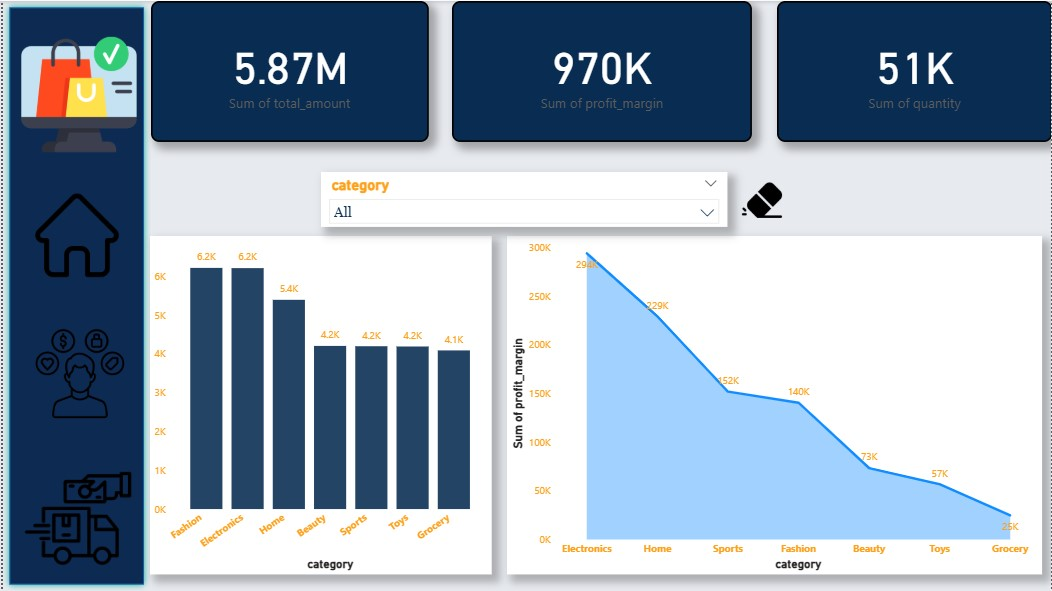

This screenshot's page, from the dashboard's own definition file:
{"tool":"powerbi","page":{"name":"Page 1","canvas":[1280,720],"ordinal":0},"visuals":[{"type":"shape","box":[0,0,180,720],"z":0},{"type":"image","box":[24,389.3,138.7,130.7],"z":1000},{"type":"image","box":[14.7,561.3,153.3,140],"z":2000},{"type":"image","box":[34.7,222.7,112,128],"z":3000},{"type":"image","box":[17.3,21.3,150.7,186.7],"z":4000},{"type":"card","fields":{"Values":["Sum(dwh fact_orders.total_amount)"]},"box":[180.3,0,338.6,172],"z":5000},{"type":"card","fields":{"Values":["Sum(dwh fact_orders.profit_margin)"]},"box":[547.8,0,366.1,172],"z":6000},{"type":"card","fields":{"Values":["Sum(dwh fact_orders.quantity)"]},"box":[944.2,0,335.8,172],"z":7000},{"type":"clusteredColumnChart","fields":{"Category":["dwh dim_product.category"],"Y":["CountNonNull(dwh fact_orders.order_id)"]},"box":[179.7,287.2,416.6,413.2],"z":8000},{"type":"areaChart","fields":{"Category":["dwh dim_product.category"],"Y":["Sum(dwh fact_orders.profit_margin)"]},"box":[614.8,287.2,653.4,413.2],"z":9000},{"type":"slicer","fields":{"Values":["dwh dim_product.category"]},"box":[387.6,208.8,496.3,67.2],"z":10000},{"type":"image","box":[895.3,213.1,61.5,58.6],"z":11000}]}

Visuals, with their boxes in screenshot pixels (x1, y1, x2, y2), scaled from the page's 1280x720 canvas onto the 1052x591 screenshot:
shape: crop(0, 0, 148, 590)
image: crop(20, 320, 134, 427)
image: crop(12, 461, 138, 576)
image: crop(29, 183, 121, 288)
image: crop(14, 17, 138, 171)
card - Sum(dwh fact_orders.total_amount): crop(148, 0, 426, 141)
card - Sum(dwh fact_orders.profit_margin): crop(450, 0, 751, 141)
card - Sum(dwh fact_orders.quantity): crop(776, 0, 1051, 141)
clusteredColumnChart - dwh dim_product.category x CountNonNull(dwh fact_orders.order_id): crop(148, 236, 490, 575)
areaChart - dwh dim_product.category x Sum(dwh fact_orders.profit_margin): crop(505, 236, 1042, 575)
slicer - dwh dim_product.category: crop(319, 171, 726, 227)
image: crop(736, 175, 786, 223)
